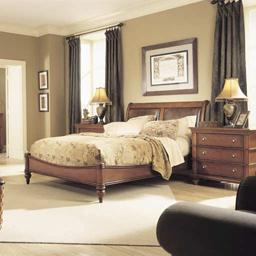Cama: (25, 97, 207, 188)
Puerta: (5, 67, 24, 157)
Ventana: (72, 38, 115, 117)
